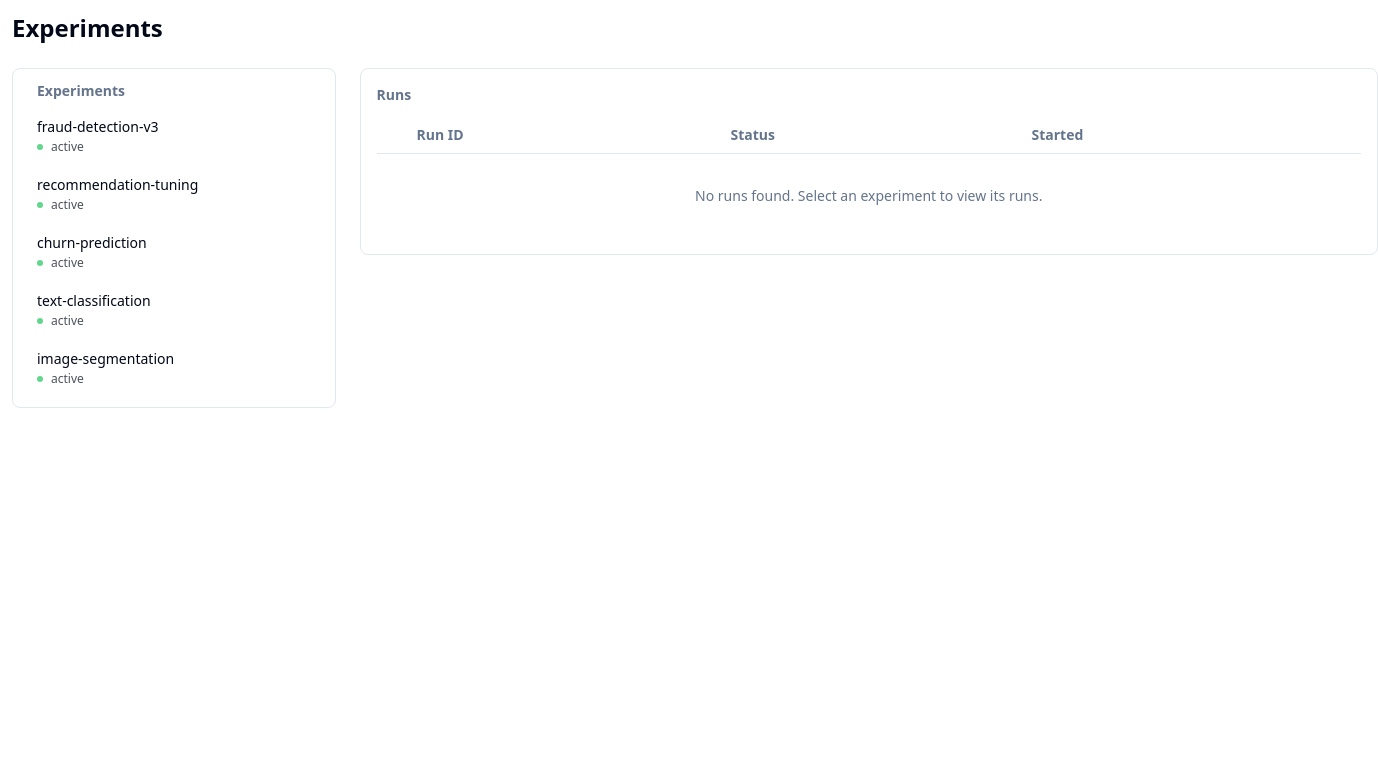
Scenario: ExperimentsPage › shows runs when an experiment is selected
Click the text "fraud-detection-v3": [98, 126] box [37,117,158,136]
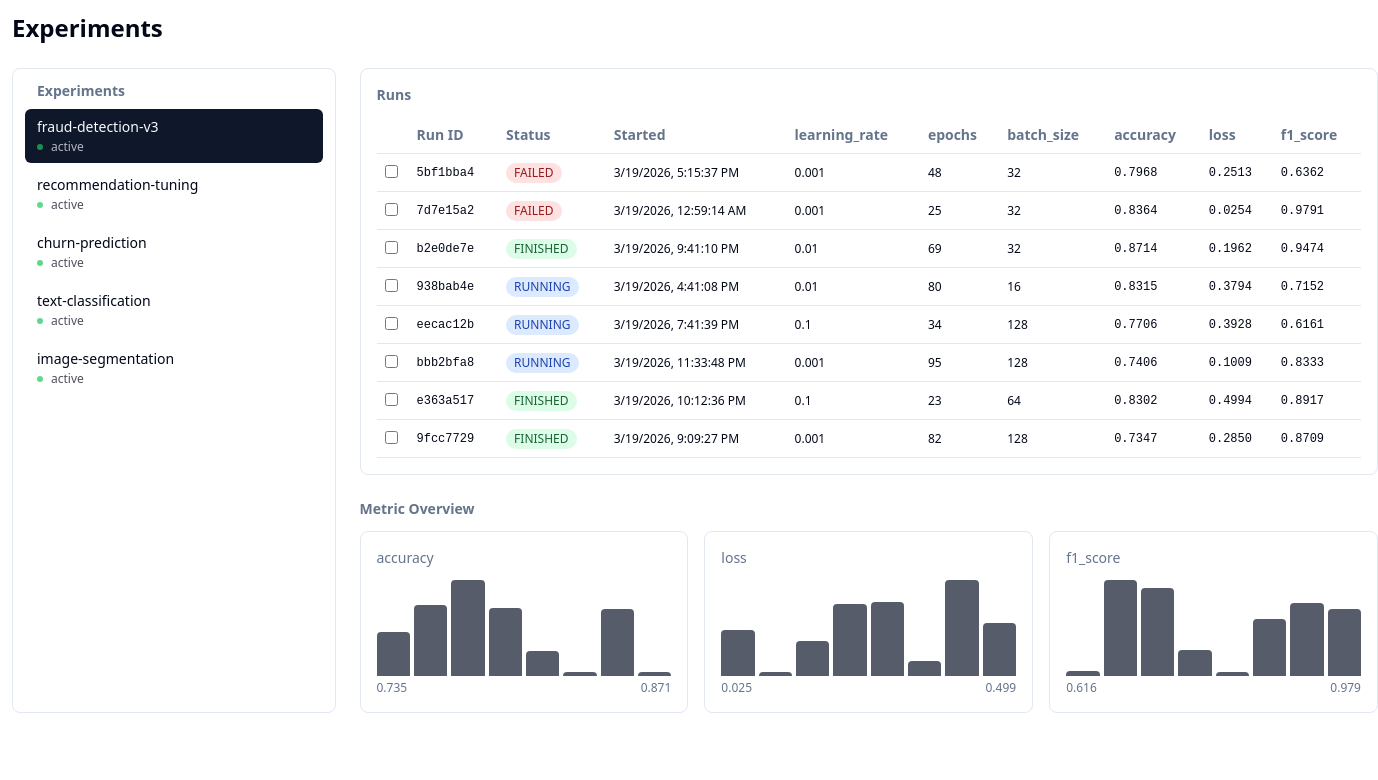
Now the 1st checkbox is shown, box [384,164,398,178]
